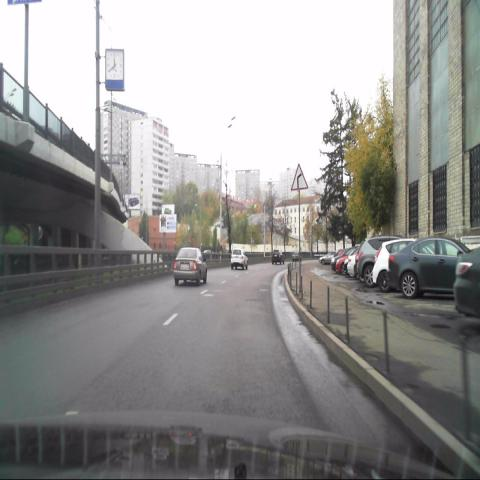1_11: (290, 163, 308, 190)
